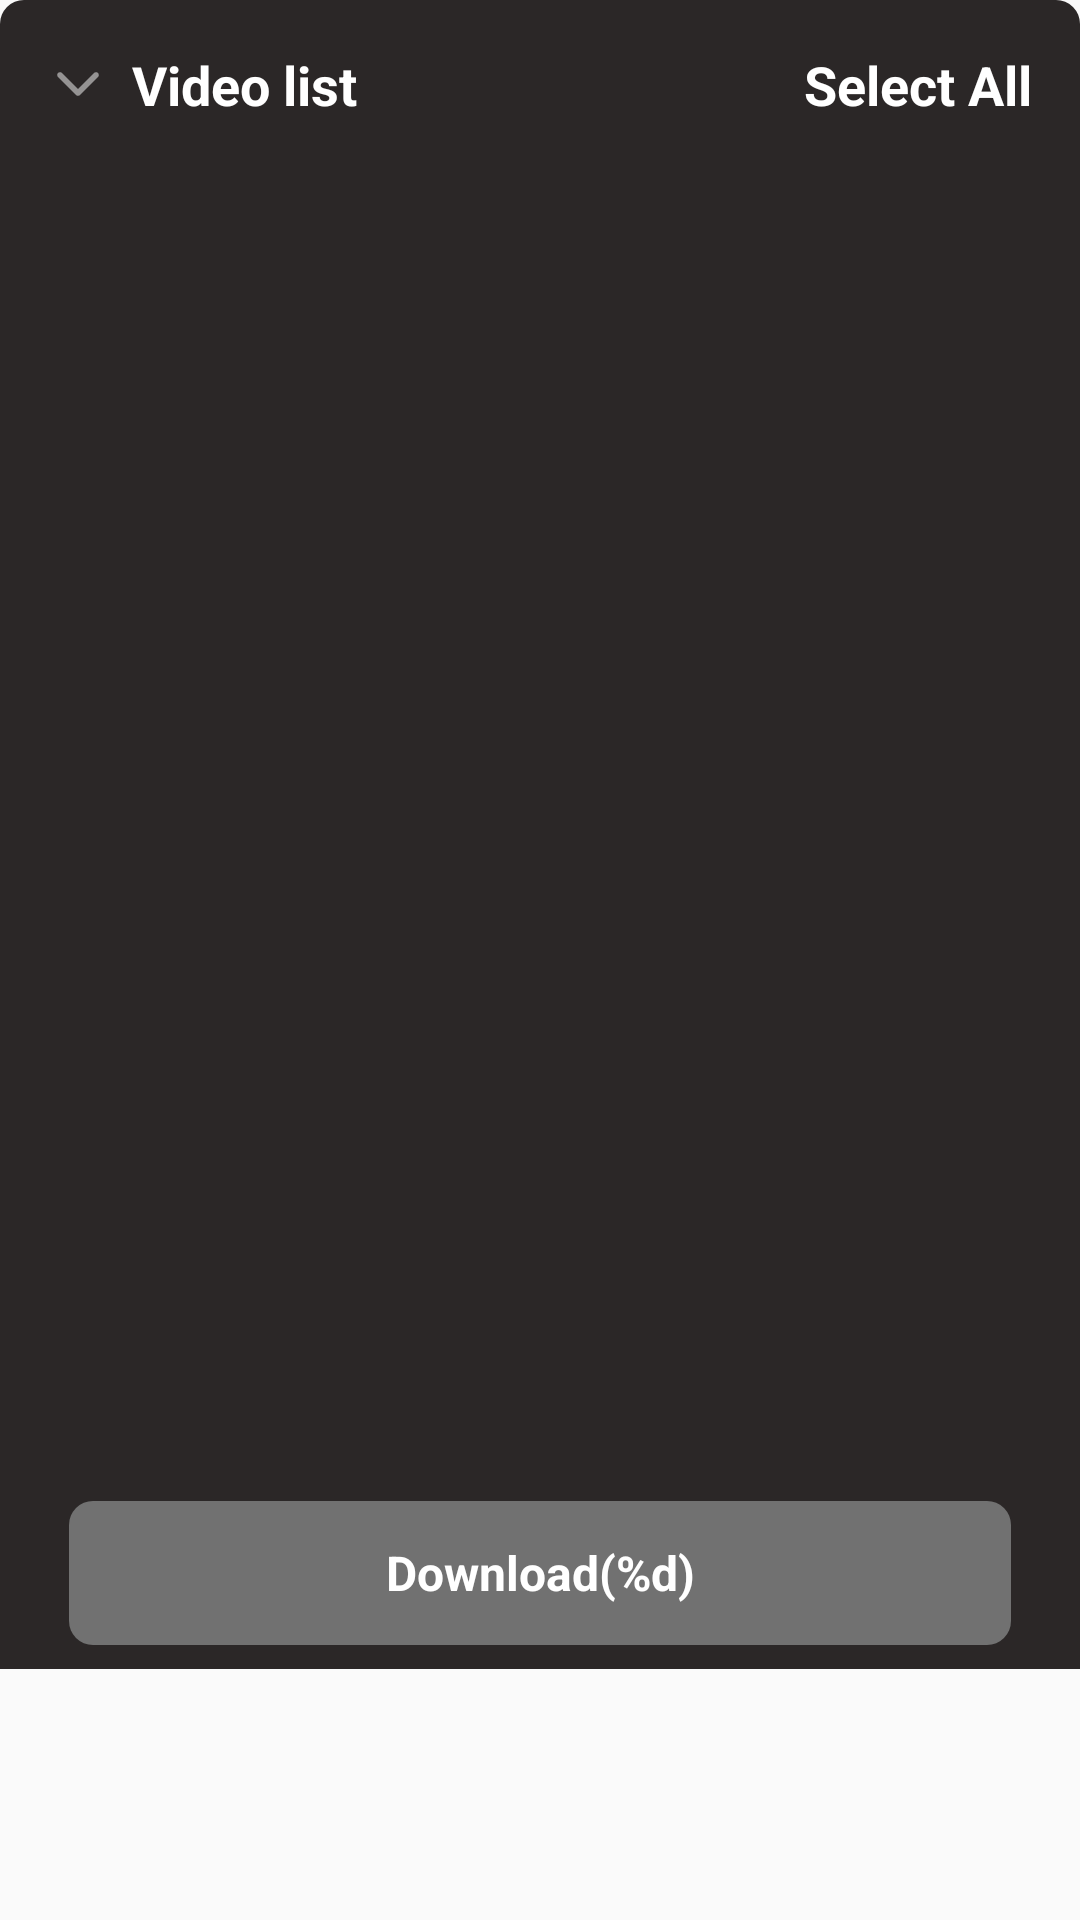

Named icons in this screenshot (1080 × 1920) and their bounding boxes, (x1, y1, x2, y2):
download back: (57, 72, 99, 96)
